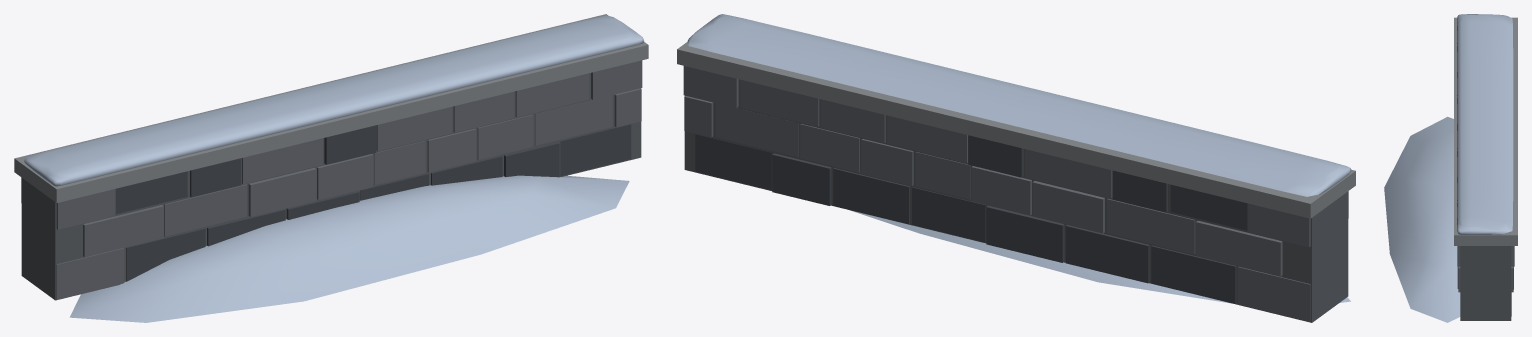
The model's file is parapet_stone.glb.
3 renders of one model, left to right at view 1: azimuth 30°, elevation 25°; view 2: azimuth 150°, elevation 25°; view 3: azimuth 270°, elevation 25°, orthographic. The views are drawn at different scales.
Visible parts, largest first — view 1: Rail; view 2: Rail; view 3: Rail.
Part boxes in pixels (<box>): Rail: <box>14,14,648,322</box>; Rail: <box>677,14,1355,322</box>; Rail: <box>1384,14,1517,322</box>.
Bounding box in the file's own units: 4.04 × 0.8895 × 1.05.
